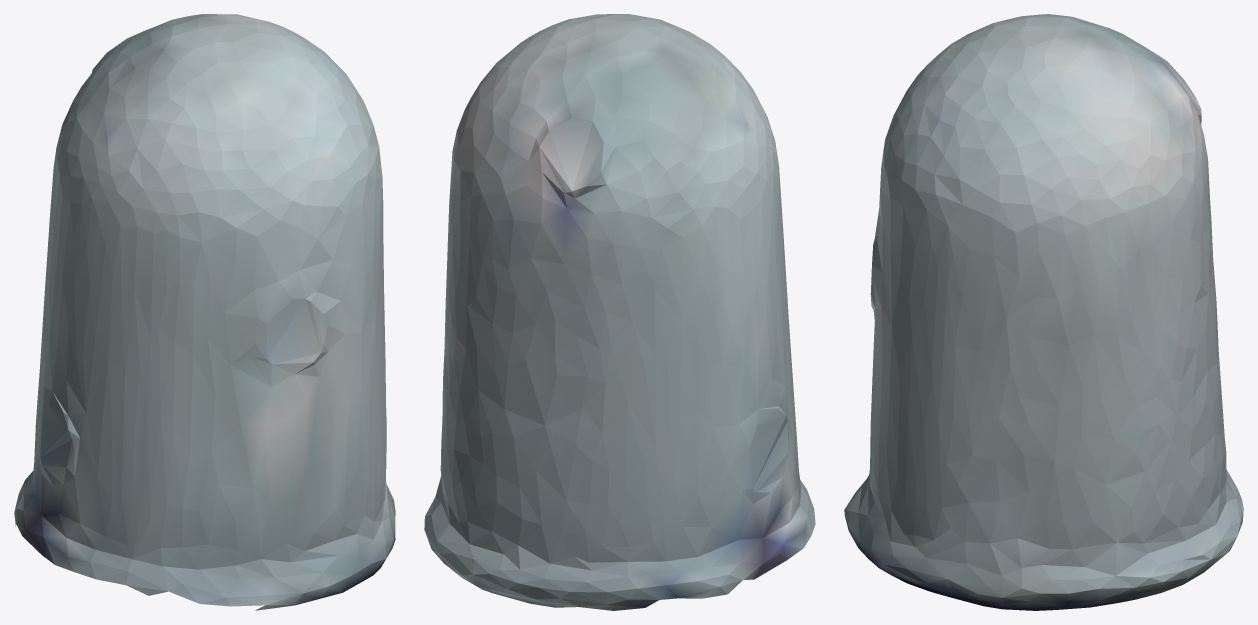
File: scan.obj
3 views of the same model, side by side, from view 1: azimuth 30°, elevation 25°; view 2: azimuth 150°, elevation 25°; view 3: azimuth 270°, elevation 25° (orthographic).
Visible parts, largest first — view 1: scan.ply; view 2: scan.ply; view 3: scan.ply.
Part boxes in pixels (left/top/right/bottom): scan.ply: left=14, top=14, right=395, bottom=610; scan.ply: left=424, top=14, right=815, bottom=610; scan.ply: left=844, top=14, right=1243, bottom=610.
Size of the model in its own units: 0.0324 by 0.0476 by 0.0335.
